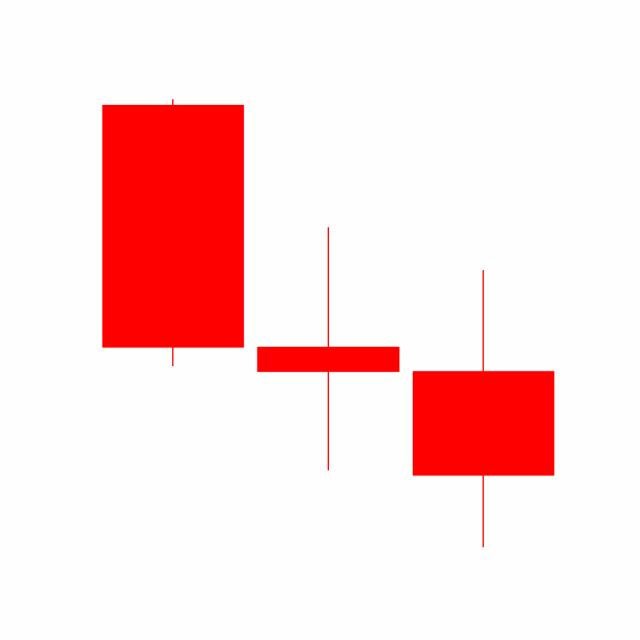Spinning Top: (249, 224, 406, 474)
